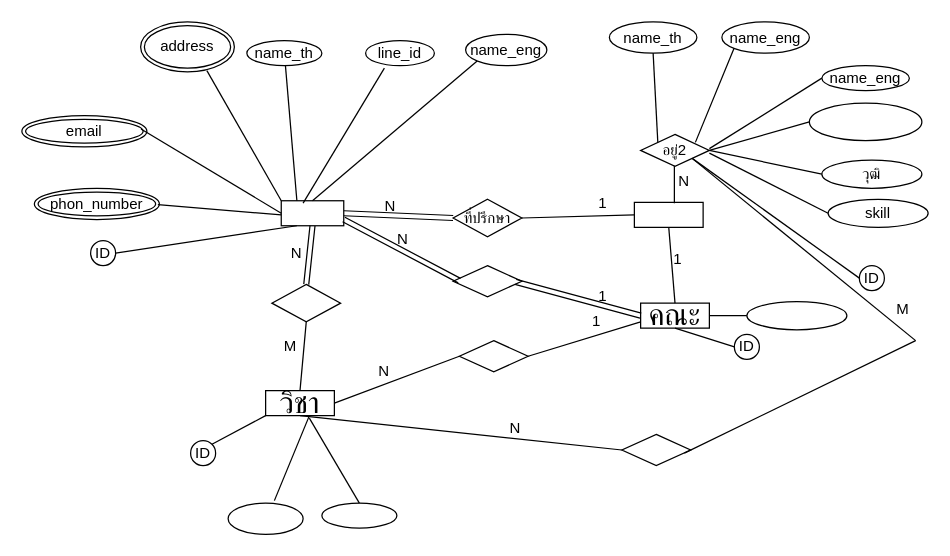
The diagram is 950 pixels wide and 556 high, and some of its shapes have lost their labels. Each missing label, with the centre of its shape:
"Academic Vichakan" belongs at [865,121].
"ของ" belongs at [493,355].
"ชื่อคณะ" belongs at [796,315].
"ชื่อวิชา" belongs at [265,518].
"นิสิต" belongs at [312,213].
"ลงทะเบียน" belongs at [306,302].
"สอน" belongs at [656,449].
"หน่วยกิต" belongs at [359,515].
"อยู่" belongs at [487,280].
"อาจารย์" belongs at [668,214].
